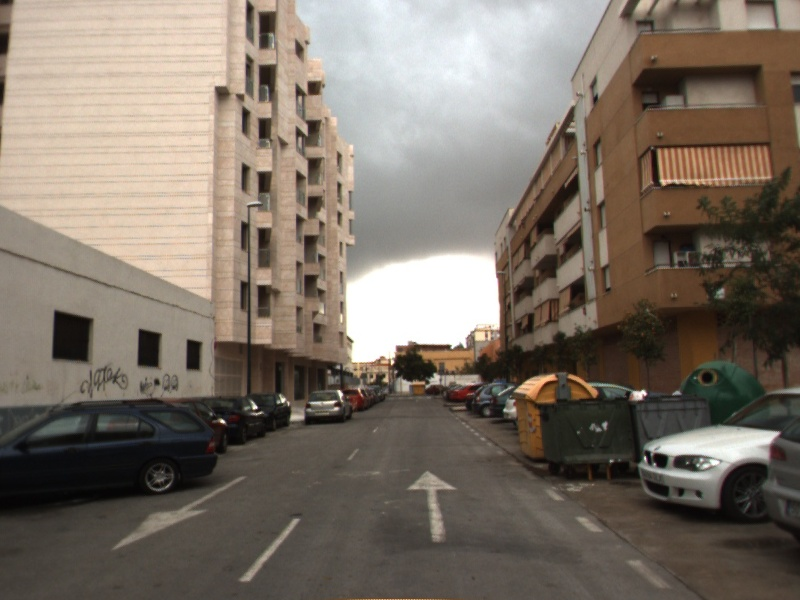STRAIGHT: (404, 468, 462, 546)
